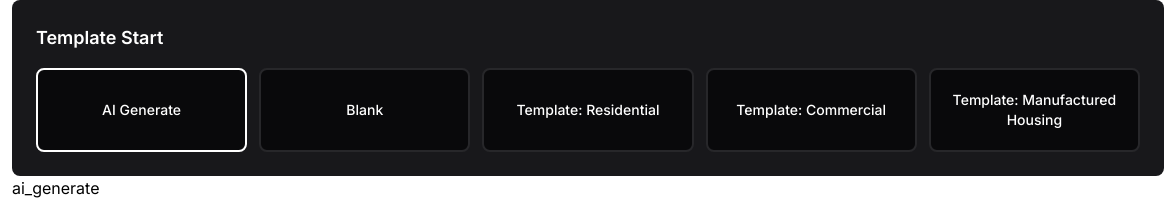
Test case: <TemplateStartSection> › updates form state when a different card is clicked
Click the label with test id "template-card-blank": click(365, 110) [259,68,470,152]
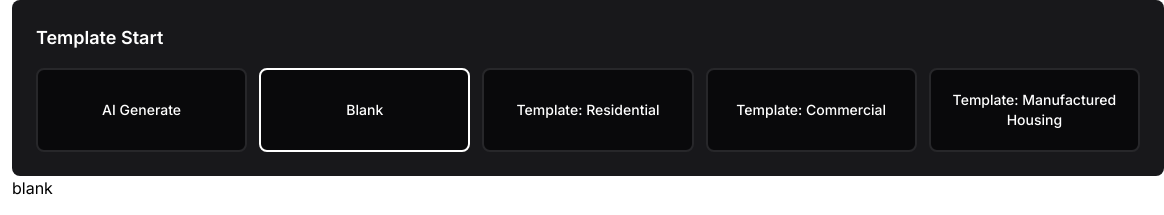
Expected: the text with test id "value-templateStart" reads "blank", [12,178,53,198]
